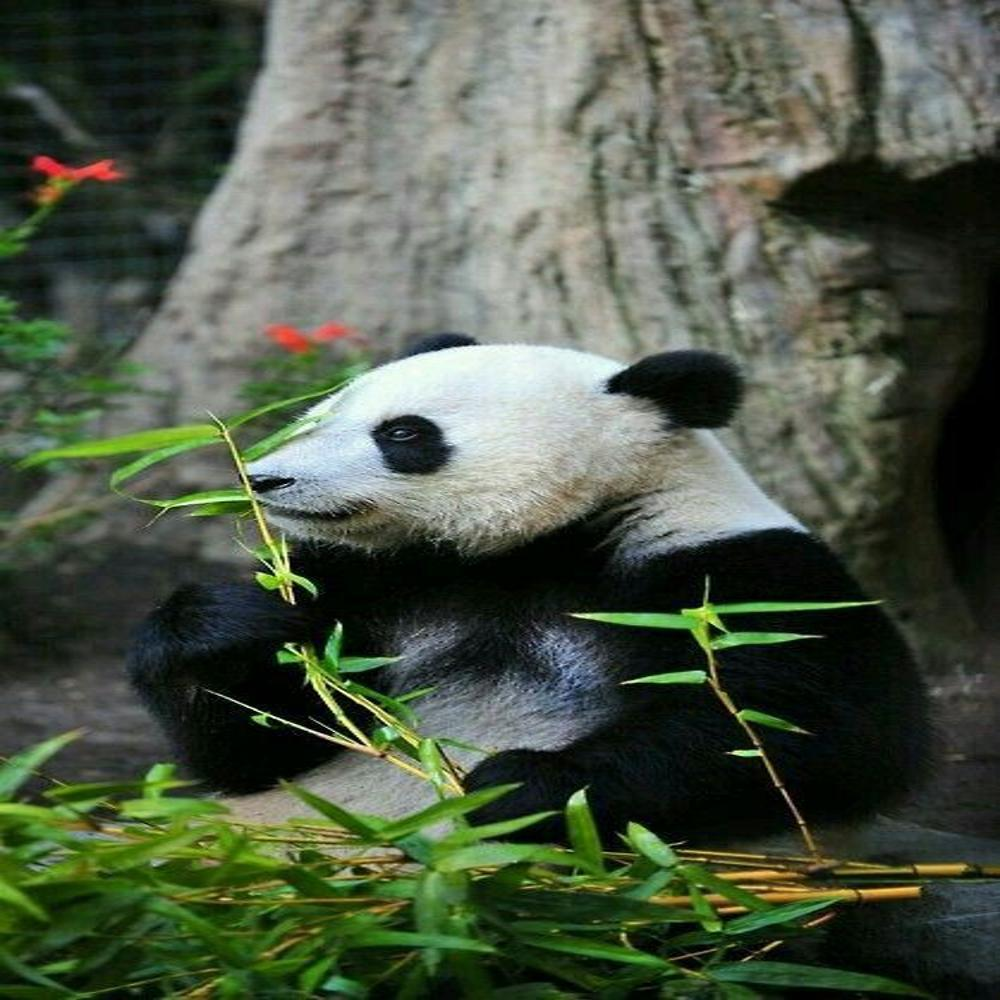panda: (136, 324, 948, 893)
